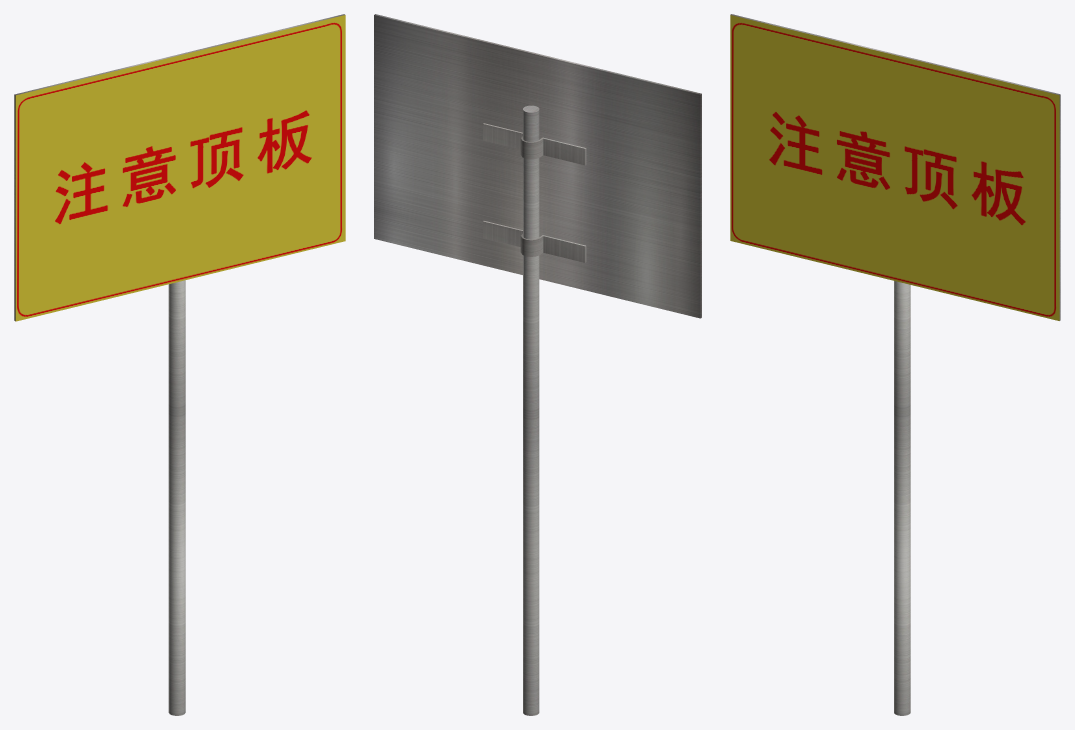
Rendered from HJ_MKHZ_001.FBX.
3 renders of one model, left to right at view 1: azimuth 30°, elevation 25°; view 2: azimuth 150°, elevation 25°; view 3: azimuth 330°, elevation 25°, orthographic.
Parts seen in each view (by area): view 1: HJ_MKHZ_001; view 2: HJ_MKHZ_001; view 3: HJ_MKHZ_001.
Boxes of the visible parts, box(x1,y1,x2,y2) form: HJ_MKHZ_001: box(14, 14, 345, 715); HJ_MKHZ_001: box(374, 14, 701, 715); HJ_MKHZ_001: box(730, 14, 1060, 715).
Size of the model in its own units: 1.56 by 3 by 0.0876.
2 materials, 2 textured.
